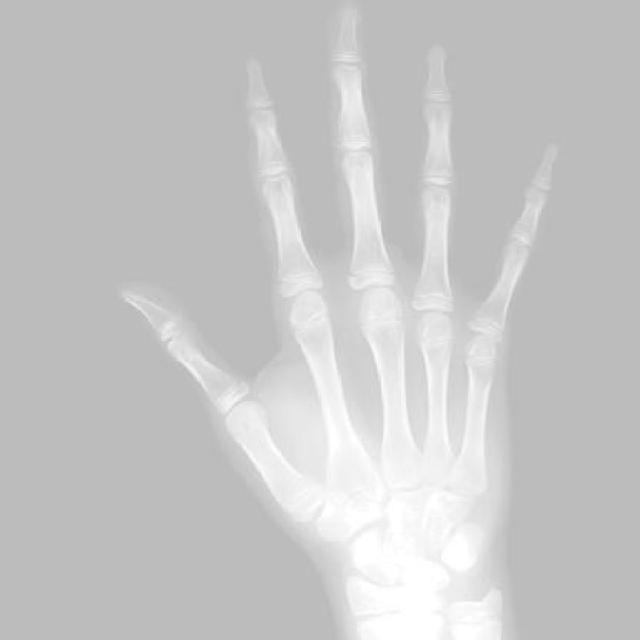Fracture: (280, 471, 320, 511)
